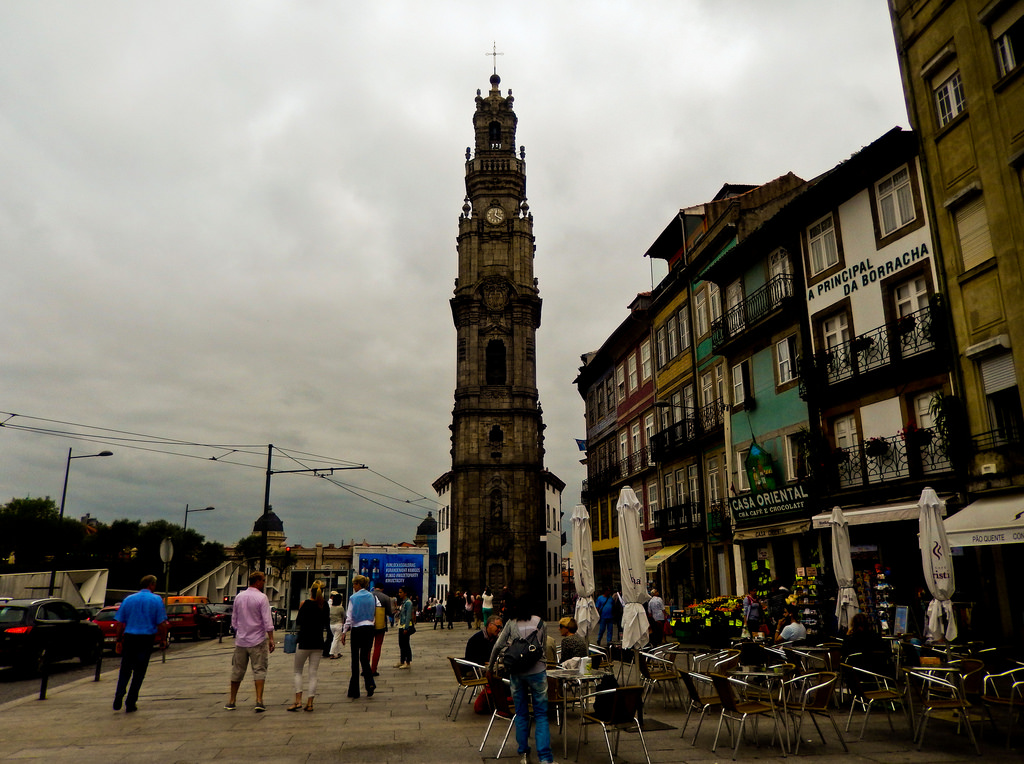clerigos: (449, 44, 549, 608)
